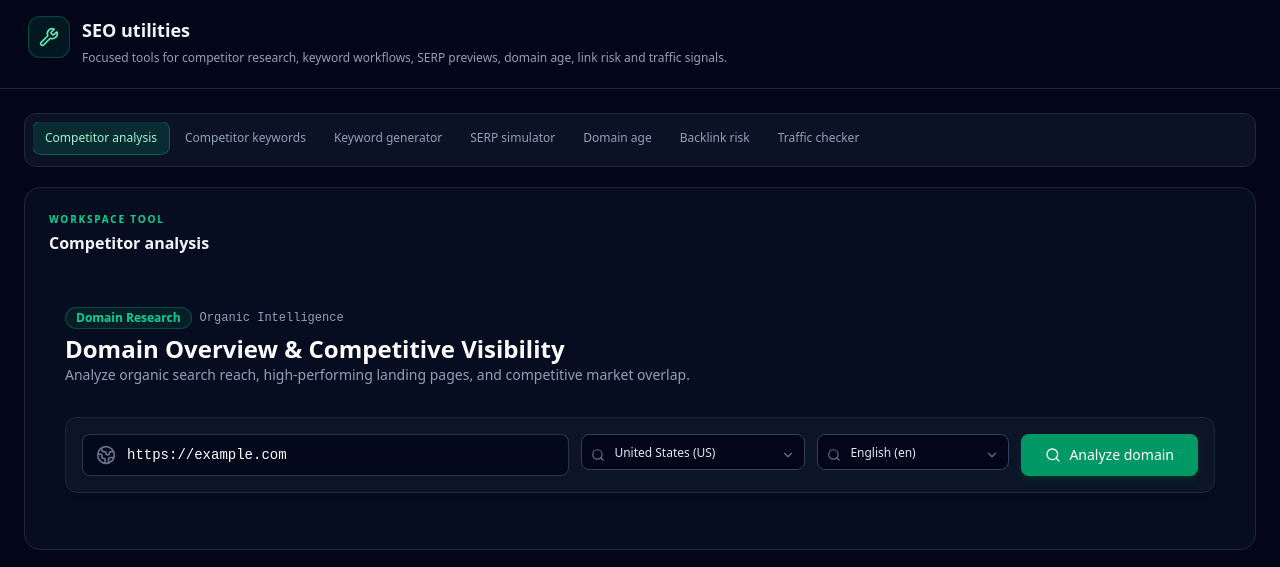
Test: SEO utilities workspace route › keeps the domain-age lookup local and reports invalid input without crashing
Click the tab "Domain age": (617, 138) [571,122,664,154]
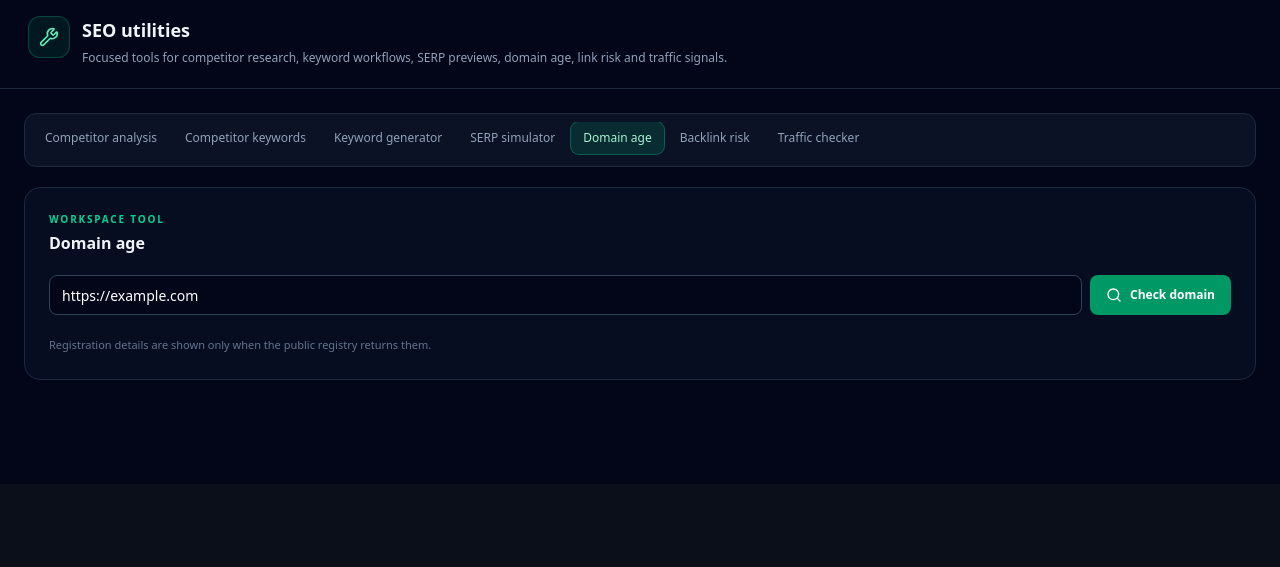
Replace the text in the field named "Domain" with "not a domain": (566, 295) [49,275,1082,315]
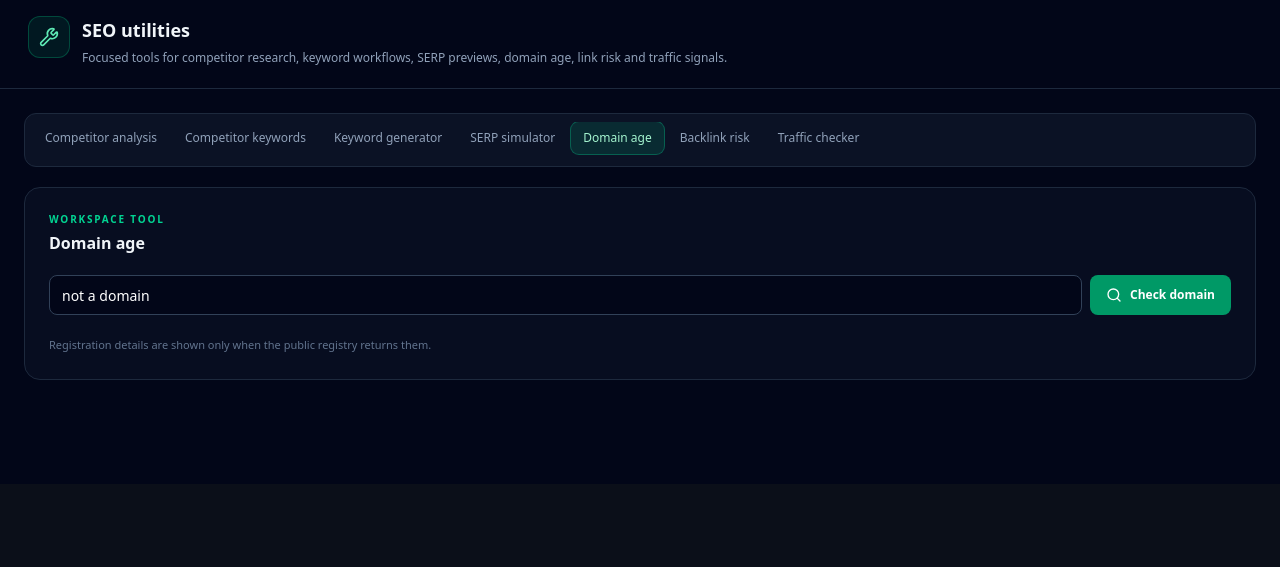
Click the button "Check domain": (1160, 295) [1090,275,1231,315]
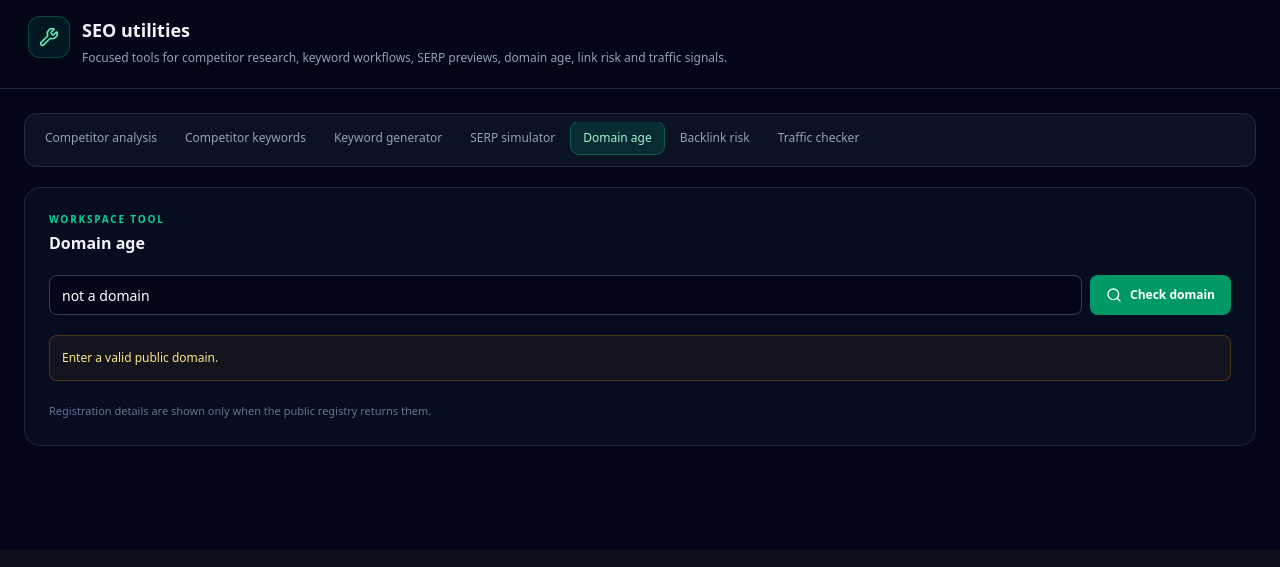
Expected: the message "Enter a valid public domain." is shown, [49,335,1231,381]
